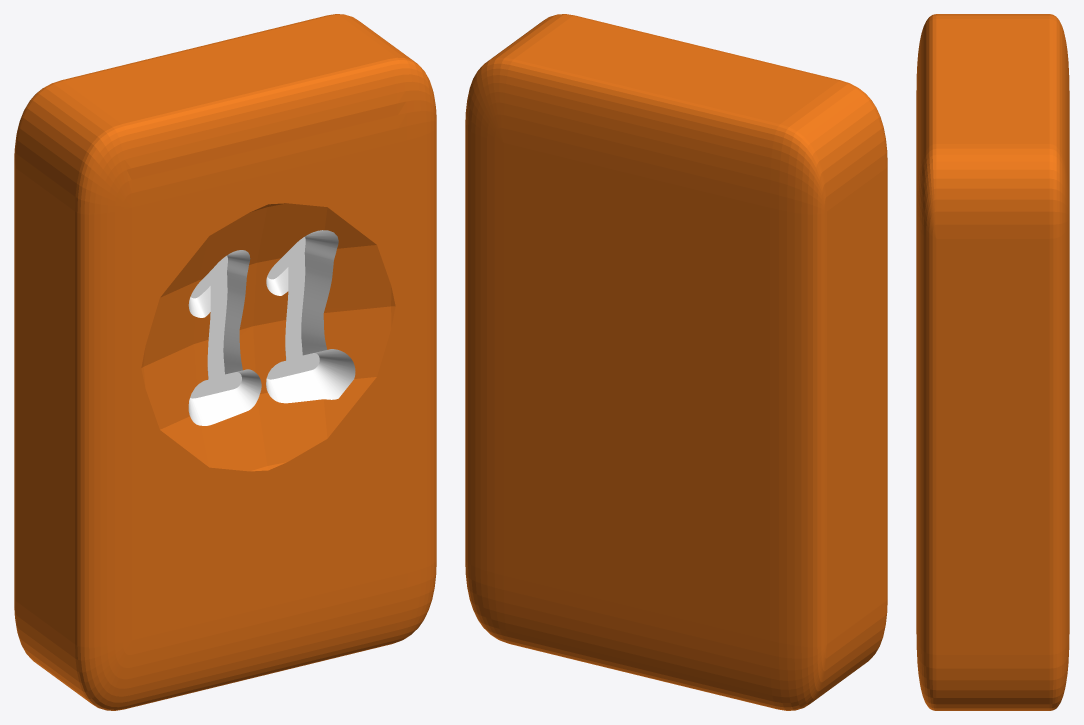
File: Rummikub Card 11.FBX
3 renders of one model, left to right at view 1: azimuth 30°, elevation 25°; view 2: azimuth 150°, elevation 25°; view 3: azimuth 270°, elevation 25°, orthographic. The views are drawn at different scales.
Visible parts, largest first — view 1: CardModel; view 2: CardModel; view 3: CardModel.
Boxes of the visible parts, <box> form: CardModel: <box>14,14,436,710</box>; CardModel: <box>465,14,887,710</box>; CardModel: <box>916,14,1069,710</box>.
Bounding box in the file's own units: 44.87 × 69.66 × 17.19.
